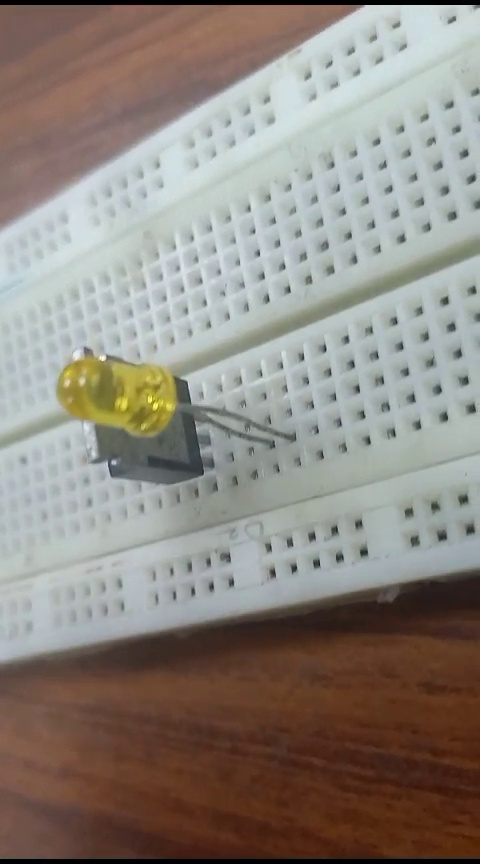LED: (54, 351, 299, 444)
